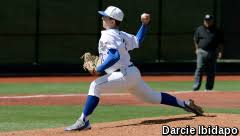baseball: (139, 10, 153, 25)
baseball player: (63, 5, 204, 132)
